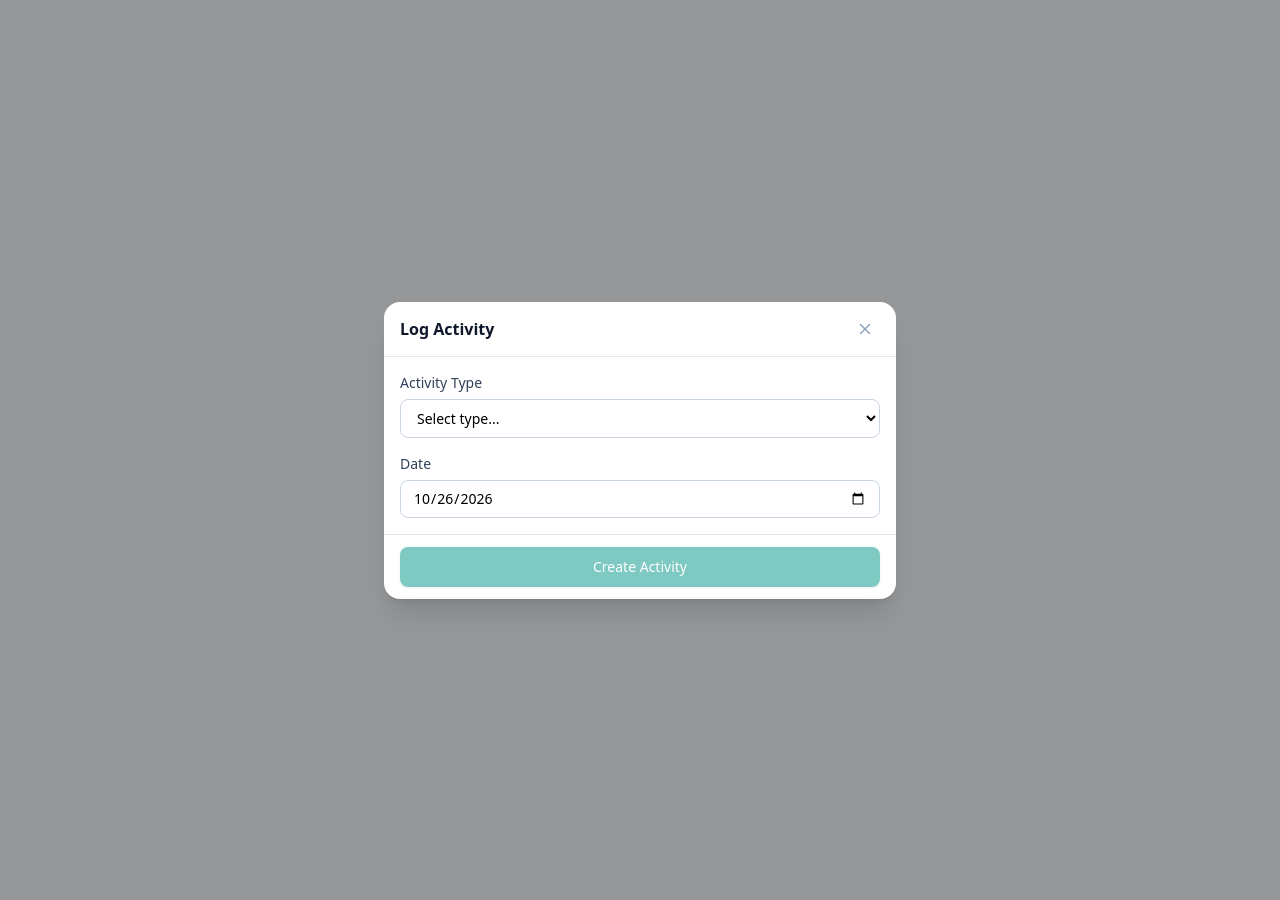
Test: CreateActivityModal › shows target search when field activity type is selected
Select "Visit" in the dropdown labelled "Activity Type" at point(640, 418), box [400,398,880,438]
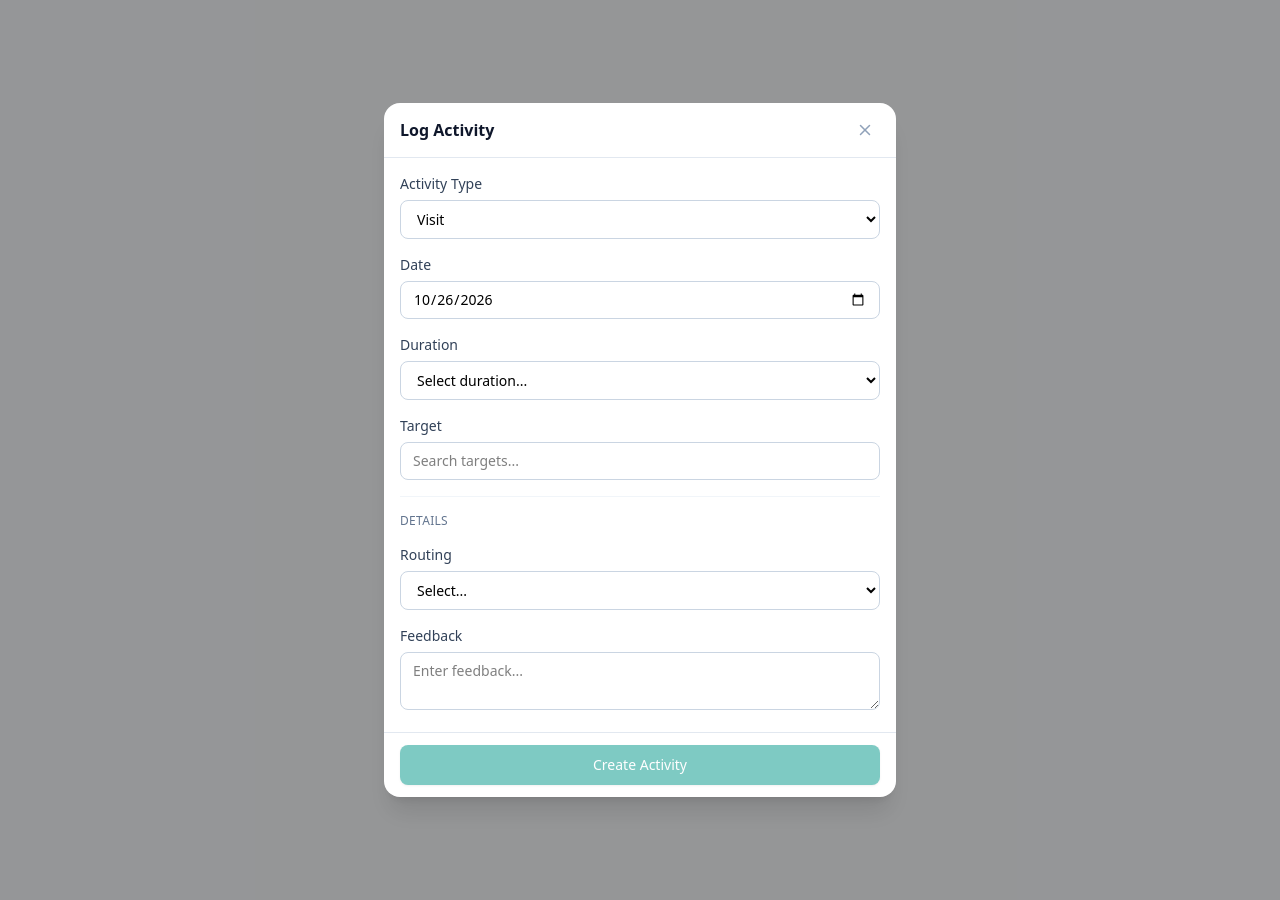
Check: the field with placeholder "Search targets..." is shown, box [400,442,880,480]
